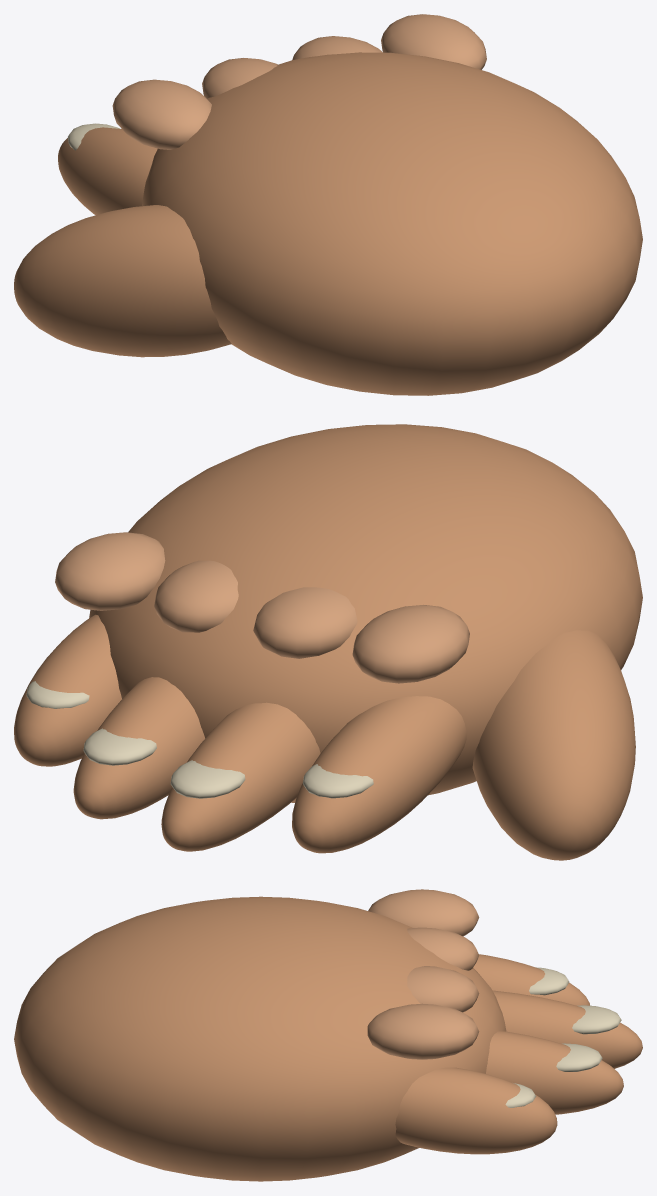
Rendered from local_hand.glb.
3 views of the same model, one above another, from view 1: azimuth 30°, elevation 25°; view 2: azimuth 150°, elevation 25°; view 3: azimuth 270°, elevation 25° (orthographic). The views are drawn at different scales.
Visible parts, largest first — view 1: Palm.002, Thumb.002, Finger.008, Knuckle.008, Knuckle.011, Knuckle.009, Knuckle.010; view 2: Palm.002, Thumb.002, Finger.008, Finger.009, Finger.010, Finger.011, Knuckle.008, Knuckle.011, Knuckle.009, Knuckle.010, Fingernail.009, Fingernail.010 (+2 smaller); view 3: Palm.002, Finger.011, Finger.010, Knuckle.011, Finger.009, Knuckle.008, Finger.008, Knuckle.010, Knuckle.009, Fingernail.009, Fingernail.010, Fingernail.008.
Part boxes in pixels (<box>): Palm.002: <box>142,52,642,395</box>; Thumb.002: <box>14,205,231,357</box>; Finger.008: <box>58,127,157,215</box>; Knuckle.008: <box>112,79,211,149</box>; Knuckle.011: <box>381,14,486,69</box>; Knuckle.009: <box>202,58,277,98</box>; Knuckle.010: <box>292,36,382,60</box>; Palm.002: <box>89,424,642,802</box>; Thumb.002: <box>472,630,635,860</box>; Finger.008: <box>292,696,466,853</box>; Finger.009: <box>161,702,320,851</box>; Finger.010: <box>73,677,205,819</box>; Finger.011: <box>14,614,121,766</box>; Knuckle.008: <box>352,605,469,683</box>; Knuckle.011: <box>55,532,165,610</box>; Knuckle.009: <box>253,587,357,658</box>; Knuckle.010: <box>154,560,238,632</box>; Fingernail.009: <box>170,760,245,798</box>; Fingernail.010: <box>83,728,156,765</box>; Palm.002: <box>14,896,506,1181</box>; Finger.011: <box>395,1067,557,1154</box>; Finger.010: <box>486,1030,623,1114</box>; Knuckle.011: <box>367,1003,479,1059</box>; Finger.009: <box>492,990,642,1068</box>; Knuckle.008: <box>368,889,479,936</box>; Finger.008: <box>473,954,589,1005</box>; Knuckle.010: <box>407,966,479,1012</box>; Knuckle.009: <box>407,927,479,970</box>; Fingernail.009: <box>572,1005,621,1034</box>; Fingernail.010: <box>556,1043,602,1071</box>; Fingernail.008: <box>529,967,569,995</box>.
Size of the model in its own units: 0.1066 by 0.052 by 0.1325.
